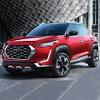Nissan: (2, 22, 99, 76)
